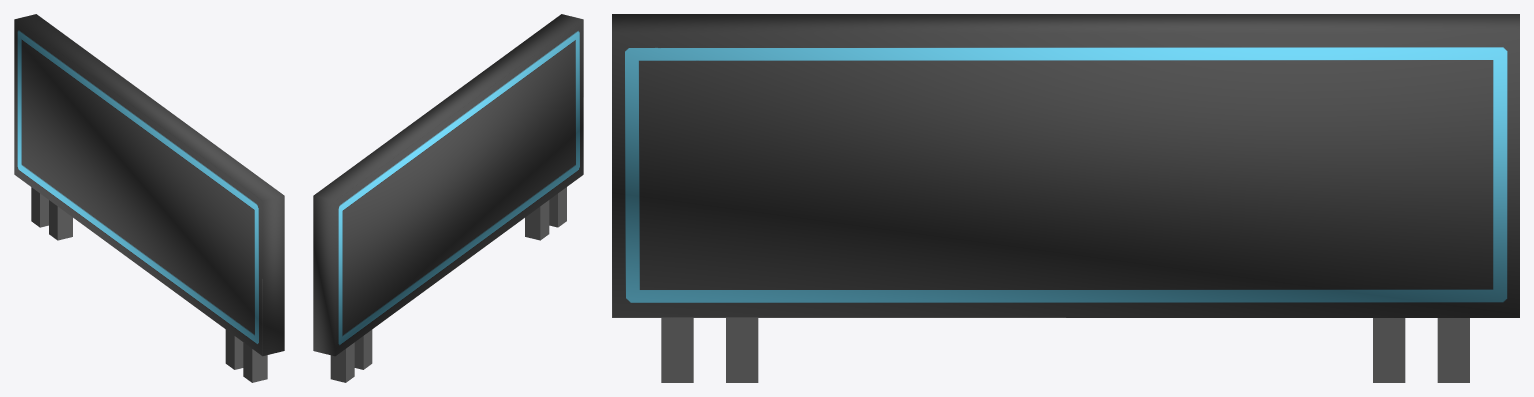
File: Post.fbx
3 views of the same model, side by side, from view 1: azimuth 30°, elevation 25°; view 2: azimuth 150°, elevation 25°; view 3: azimuth 270°, elevation 25° (orthographic). The views are drawn at different scales.
Visible parts, largest first — view 1: Cube.005; view 2: Cube.005; view 3: Cube.005.
Boxes of the visible parts, bbox=[...] form: Cube.005: bbox=[14, 14, 284, 382]; Cube.005: bbox=[313, 14, 583, 382]; Cube.005: bbox=[612, 14, 1519, 382].
Size of the model in its own units: 2.87 by 24.05 by 56.13.
2 materials, 2 textured.
